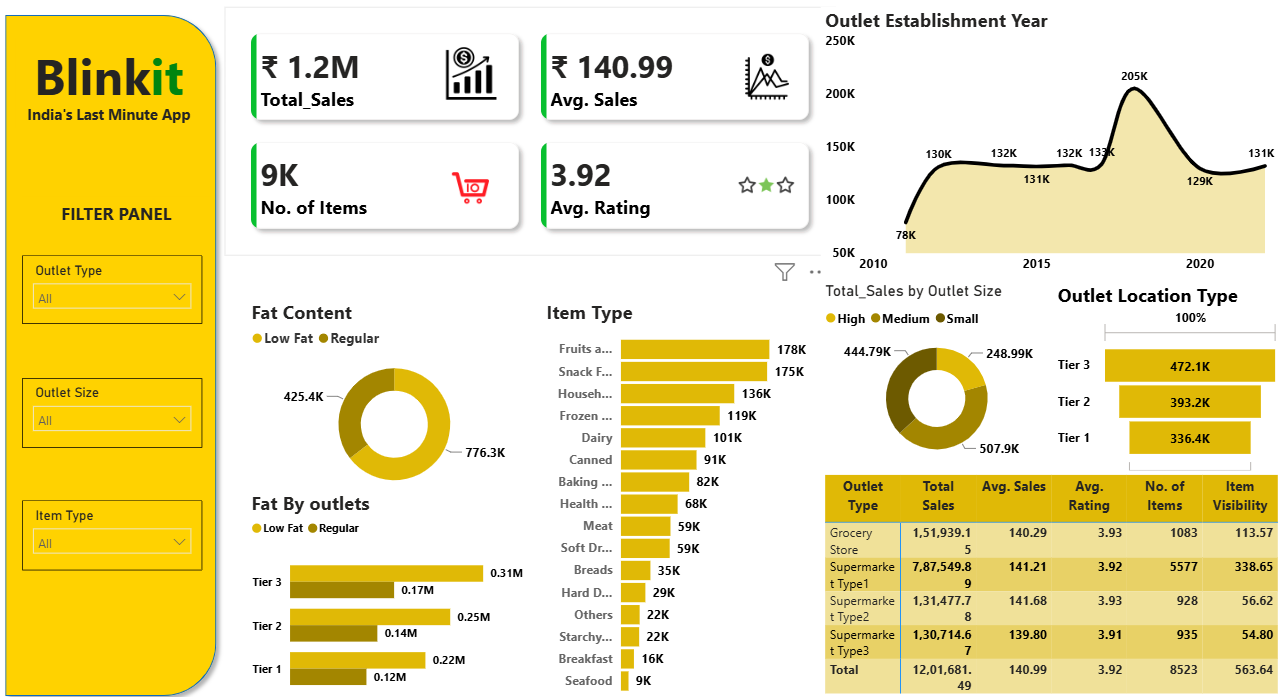

The page's visual inventory and layout, read from the dashboard file:
{"tool":"powerbi","page":{"name":"Page 1","canvas":[1400,800],"ordinal":0},"visuals":[{"type":"shape","box":[0,20.4,247.3,758.2],"z":0},{"type":"textbox","box":[20.4,54.3,202.4,82.9],"z":0,"group":"g1"},{"type":"group","id":"g1","title":"Group 1","box":[20.4,54.3,202.4,97.8],"z":1000},{"type":"textbox","box":[20.4,120.9,202.4,31.3],"z":1000,"group":"g1"},{"type":"cardVisual","fields":{"Data":["BlinkIT Grocery Data.Total_Sales","BlinkIT Grocery Data.Avg. Sales","BlinkIT Grocery Data.No. of Items","BlinkIT Grocery Data.Avg. Rating"]},"box":[247.3,20.4,664.4,270.4],"z":2000},{"type":"image","box":[803,67.9,67.9,57.1],"z":3000},{"type":"image","box":[482.3,184.8,66.6,61.1],"z":4000},{"type":"image","box":[803,183.4,66.6,61.1],"z":5000},{"type":"image","box":[482.3,62.5,66.6,61.1],"z":6000},{"type":"barChart","title":" Item Type","fields":{"Category":["BlinkIT Grocery Data.Item Type"],"Y":["BlinkIT Grocery Data.Total_Sales"]},"box":[592.4,338.3,292.1,440.2],"z":7000},{"type":"donutChart","title":" Fat Content","fields":{"Y":["BlinkIT Grocery Data.Total_Sales"],"Category":["BlinkIT Grocery Data.Item Fat Content"]},"box":[271.7,338.3,320.7,220.1],"z":8000},{"type":"clusteredBarChart","title":" Fat By outlets","fields":{"Category":["BlinkIT Grocery Data.Outlet Location Type"],"Y":["BlinkIT Grocery Data.Total_Sales"],"Series":["BlinkIT Grocery Data.Item Fat Content"]},"box":[271.7,546.2,320.7,232.3],"z":9000},{"type":"areaChart","title":"Outlet Establishment Year","fields":{"Y":["BlinkIT Grocery Data.Total_Sales"],"Category":["BlinkIT Grocery Data.Outlet Establishment Year"]},"box":[895.4,20.4,504.1,298.9],"z":10000},{"type":"funnel","title":" Outlet Location Type","fields":{"Category":["BlinkIT Grocery Data.Outlet Location Type"],"Y":["BlinkIT Grocery Data.Total_Sales"]},"box":[1148.1,319.3,251.4,239.1],"z":11000},{"type":"pivotTable","fields":{"Rows":["BlinkIT Grocery Data.Outlet Type"],"Values":["BlinkIT Grocery Data.Total_Sales","BlinkIT Grocery Data.Avg. Sales","BlinkIT Grocery Data.Avg. Rating","BlinkIT Grocery Data.No. of Items","Sum(BlinkIT Grocery Data.Item Visibility)"]},"box":[895.4,524.5,504.1,254.1],"z":12000},{"type":"donutChart","fields":{"Y":["BlinkIT Grocery Data.Total_Sales"],"Series":["BlinkIT Grocery Data.Outlet Size"]},"box":[895.4,319.3,252.7,205.2],"z":13000},{"type":"slicer","fields":{"Values":["BlinkIT Grocery Data.Outlet Type"]},"box":[27.2,290.8,195.7,74.7],"z":14000},{"type":"slicer","fields":{"Values":["BlinkIT Grocery Data.Item Type"]},"box":[27.2,557.1,195.7,76.1],"z":14001},{"type":"slicer","fields":{"Values":["BlinkIT Grocery Data.Outlet Size"]},"box":[27.2,423.2,195.7,76.1],"z":14002},{"type":"textbox","box":[27.2,226.9,205.2,36.7],"z":14003}]}

Visuals, with their boxes on the page's 1400x800 design canvas (x1, y1, x2, y2). These are canvas units, not pixel positions in the 1282x697 screenshot, which may show the page scaled, cropped or inside an application window:
shape: box=[0, 20, 247, 779]
textbox: box=[20, 54, 223, 137]
"Group 1" group: box=[20, 54, 223, 152]
textbox: box=[20, 121, 223, 152]
cardVisual - BlinkIT Grocery Data.Total_Sales x BlinkIT Grocery Data.Avg. Sales: box=[247, 20, 912, 291]
image: box=[803, 68, 871, 125]
image: box=[482, 185, 549, 246]
image: box=[803, 183, 870, 244]
image: box=[482, 62, 549, 124]
" Item Type" barChart: box=[592, 338, 884, 778]
" Fat Content" donutChart: box=[272, 338, 592, 558]
" Fat By outlets" clusteredBarChart: box=[272, 546, 592, 778]
"Outlet Establishment Year" areaChart: box=[895, 20, 1400, 319]
" Outlet Location Type" funnel: box=[1148, 319, 1400, 558]
pivotTable - BlinkIT Grocery Data.Outlet Type x BlinkIT Grocery Data.Total_Sales: box=[895, 524, 1400, 779]
donutChart - BlinkIT Grocery Data.Total_Sales x BlinkIT Grocery Data.Outlet Size: box=[895, 319, 1148, 524]
slicer - BlinkIT Grocery Data.Outlet Type: box=[27, 291, 223, 366]
slicer - BlinkIT Grocery Data.Item Type: box=[27, 557, 223, 633]
slicer - BlinkIT Grocery Data.Outlet Size: box=[27, 423, 223, 499]
textbox: box=[27, 227, 232, 264]
